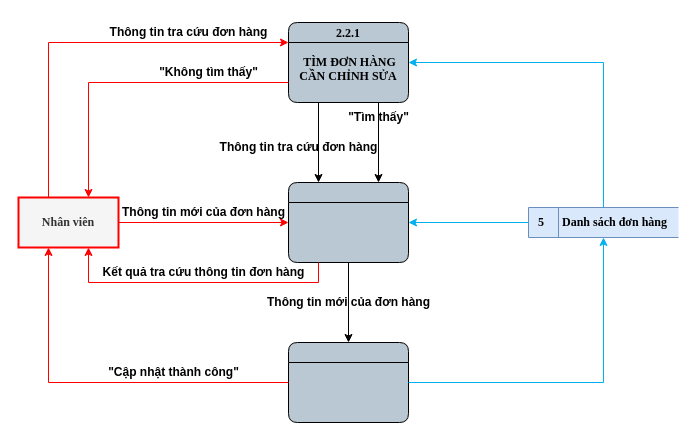
Some shapes in this 696 by 440 pixel diagram are drawn without their labels. The shapes that lost their labels are listed below. From the top down, each one's box as (x1, y1, x2, y2) in pixels, then its label:
(288, 182, 408, 262): 2.2.2 HIỂN THỊ ĐƠN HÀNG
(288, 342, 408, 422): 2.2.3 CẬP NHẬT THÔNG TIN
